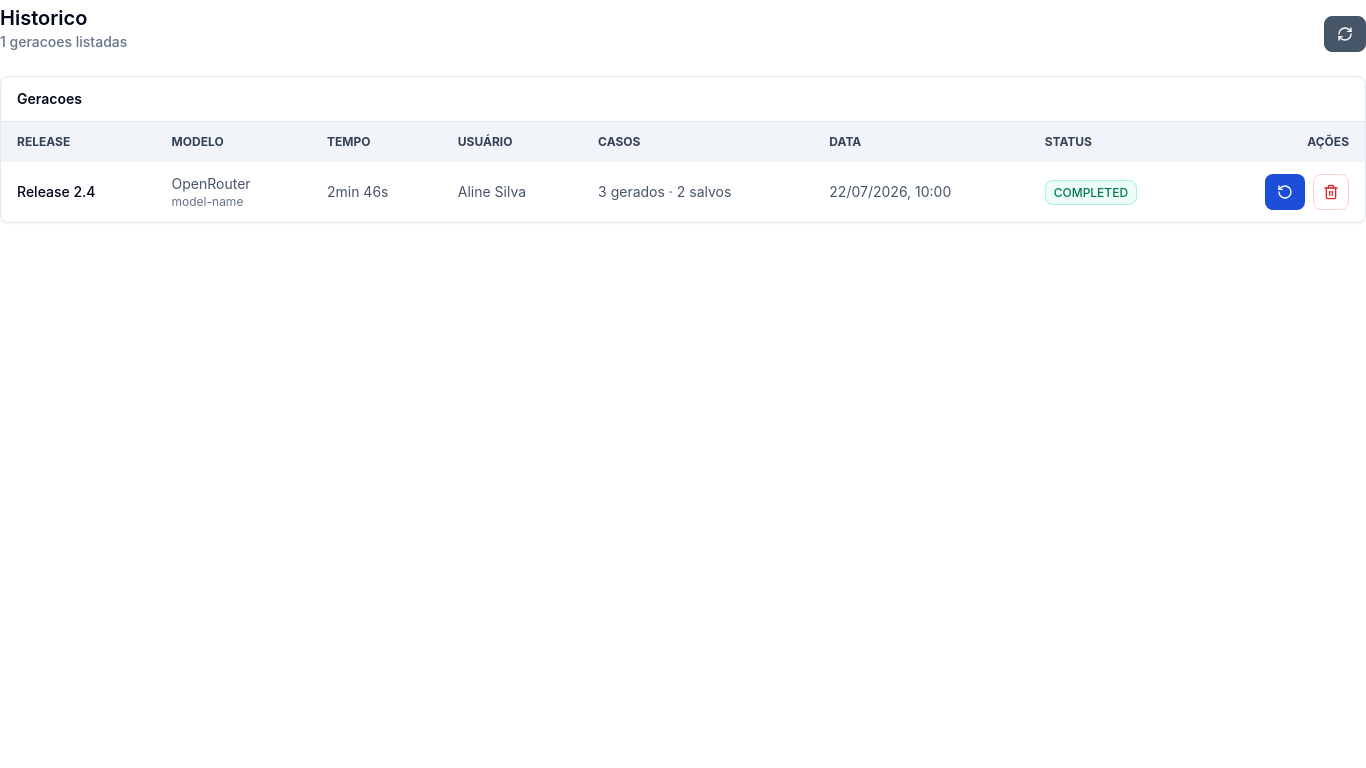
Test: AiHistoryPage › opens, identifies and cancels the confirmation modal
expect the button "Release 2.4" is shown: met, box [17,182,96,202]
Click the button named "Excluir geração Release 2.4": click(1331, 192) [1313,174,1349,210]
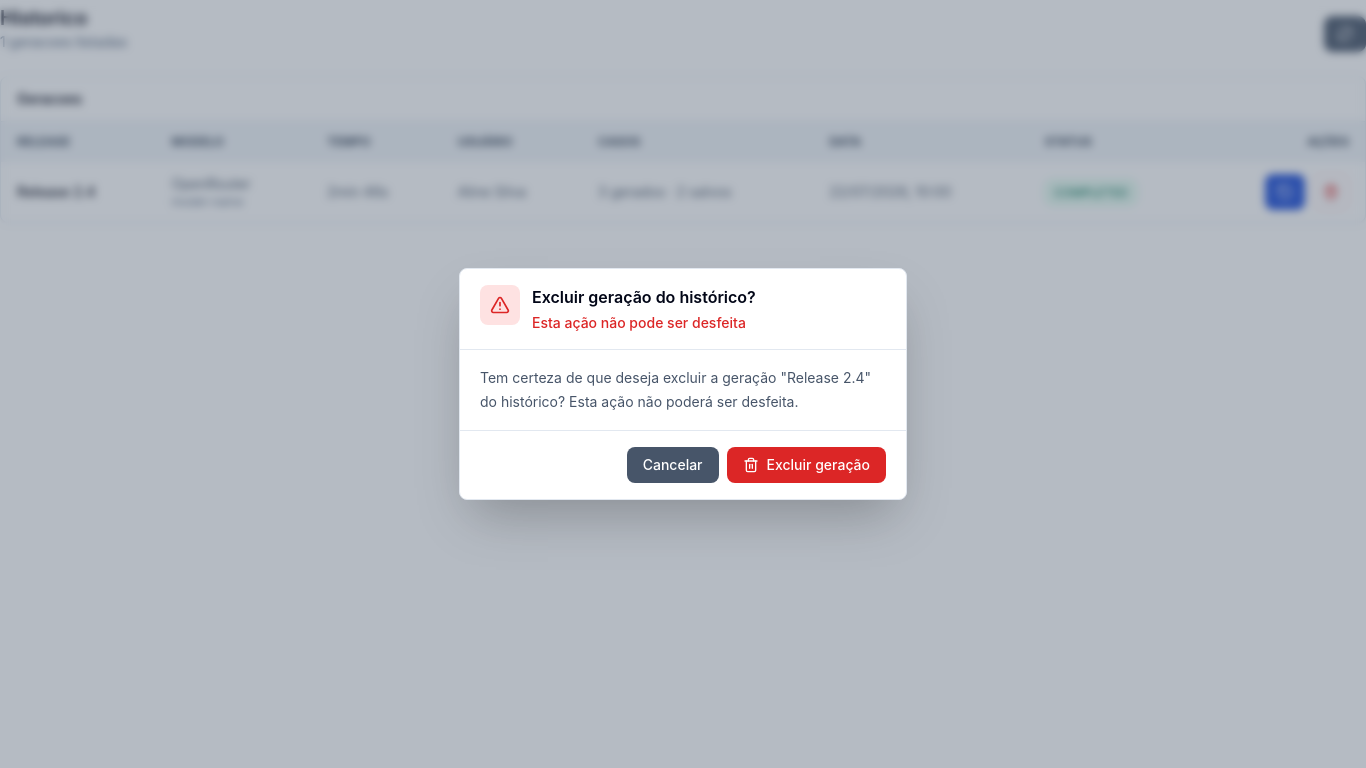
expect the dialog is shown: met, box [459,268,907,500]
Click the button "Cancelar": click(673, 465) [627,447,718,483]
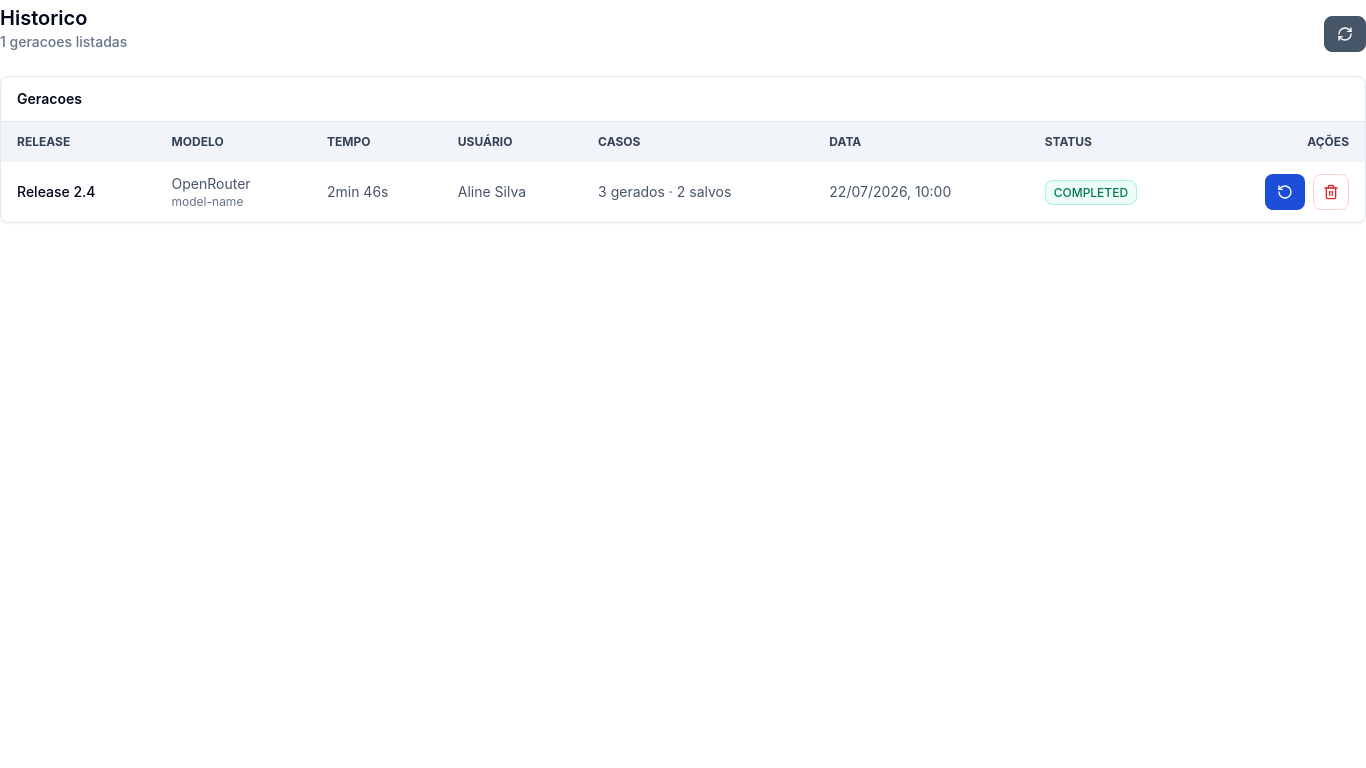
expect the dialog is gone: met
